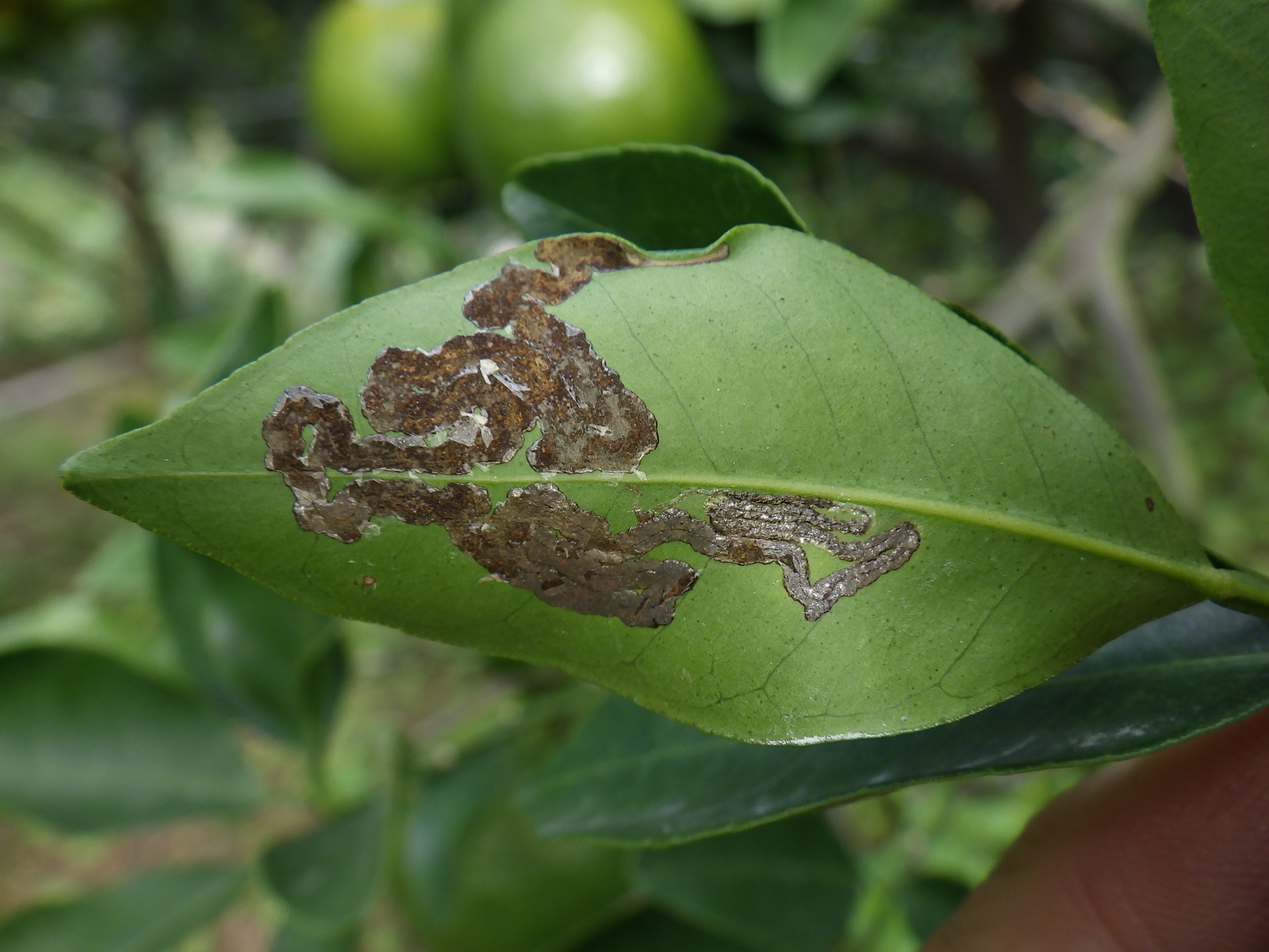Citrus_Leaf_Miner: (263, 237, 921, 627)
